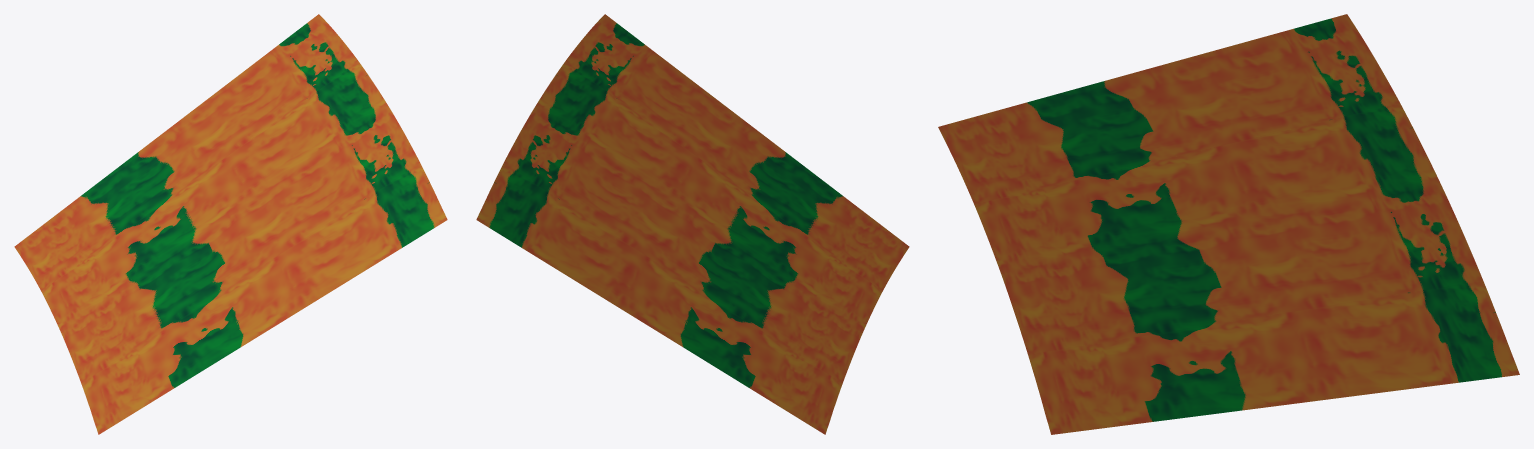
The model's file is p_trashbot_end_sprinkler03_pose2.fbx.
3 views of the same model, side by side, from view 1: azimuth 30°, elevation 25°; view 2: azimuth 150°, elevation 25°; view 3: azimuth 330°, elevation 25° (orthographic). The views are drawn at different scales.
Visible parts, largest first — view 1: p_sprinkler_end_plane_03_pose2; view 2: p_sprinkler_end_plane_03_pose2; view 3: p_sprinkler_end_plane_03_pose2.
Boxes of the visible parts, x1=… form: p_sprinkler_end_plane_03_pose2: x1=14, y1=14, x2=447, y2=434; p_sprinkler_end_plane_03_pose2: x1=476, y1=14, x2=909, y2=434; p_sprinkler_end_plane_03_pose2: x1=938, y1=14, x2=1519, y2=434.
Bounding box in the file's own units: 27.99 × 22.66 × 2.38e-06.
